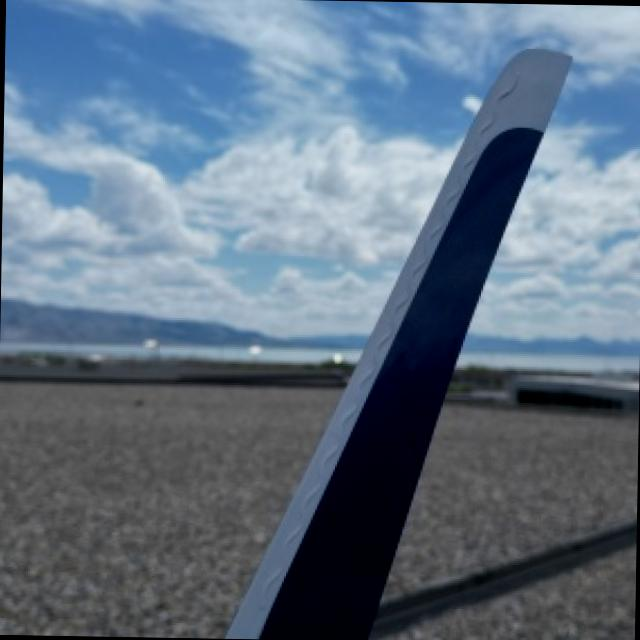healthy: (227, 49, 574, 639)
